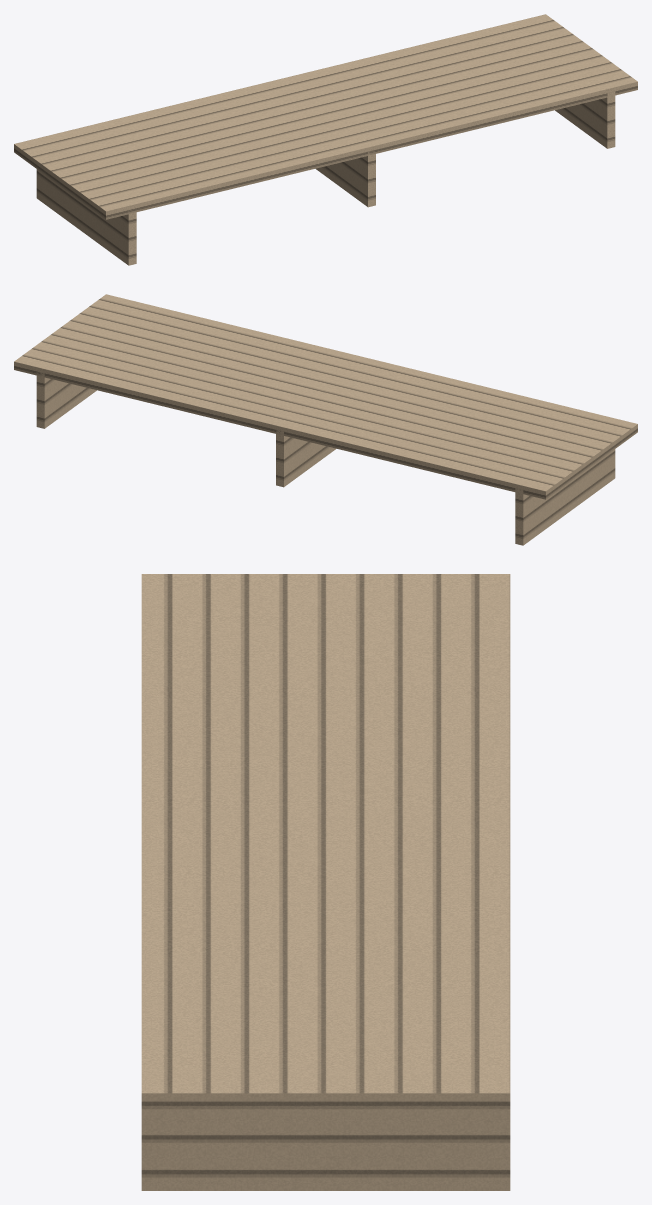
The model's file is gymnasium_bleachers.glb.
3 views of the same model, one above another, from view 1: azimuth 30°, elevation 25°; view 2: azimuth 150°, elevation 25°; view 3: azimuth 270°, elevation 25° (orthographic). The views are drawn at different scales.
Parts seen in each view (by area): view 1: gymnasium_bleachers-col; view 2: gymnasium_bleachers-col; view 3: gymnasium_bleachers-col.
Part boxes in pixels (x1,y1,x2,y2): gymnasium_bleachers-col: (14, 14, 637, 265); gymnasium_bleachers-col: (14, 294, 637, 545); gymnasium_bleachers-col: (141, 574, 510, 1190).
Bounding box in the file's own units: 4 × 0.43 × 1.2.
Materials: 1 (1 with a texture image).
